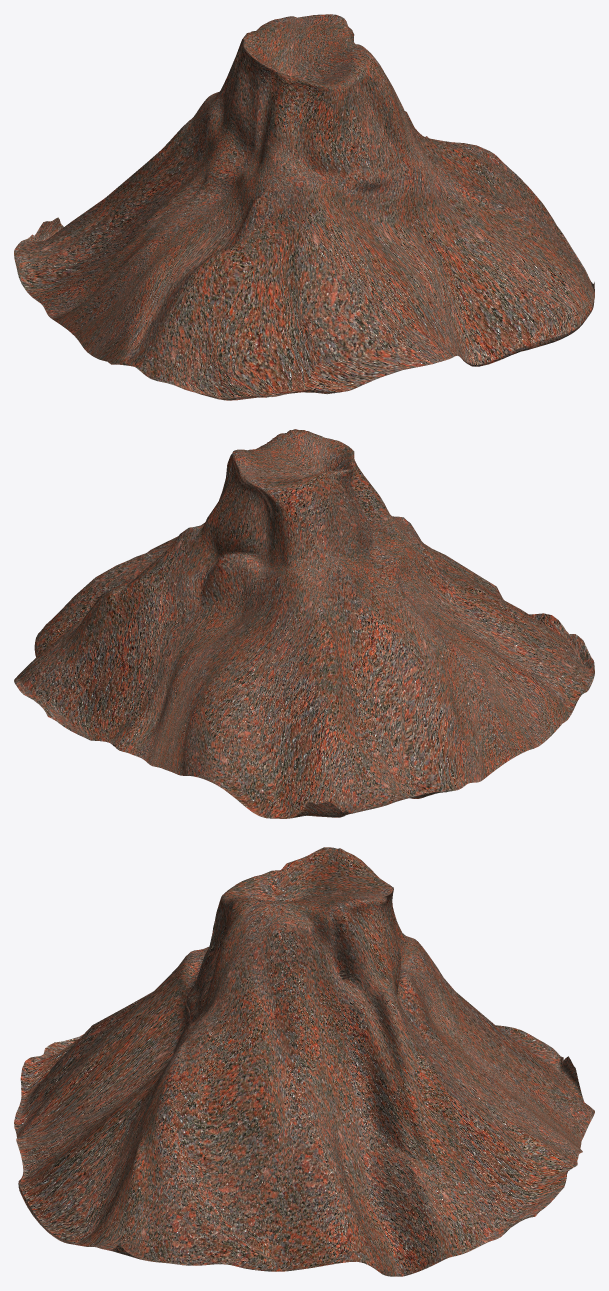
File: kazan.fbx
The picture shows the model from 3 angles, top to bottom: view 1: azimuth 30°, elevation 25°; view 2: azimuth 150°, elevation 25°; view 3: azimuth 270°, elevation 25°; orthographic projection. The views are drawn at different scales.
Visible parts, largest first — view 1: Plane001; view 2: Plane001; view 3: Plane001.
Part boxes in pixels (box(x1,y1,x2,y2)): Plane001: box(14, 14, 594, 400); Plane001: box(14, 429, 594, 818); Plane001: box(14, 847, 594, 1276).
Bounding box in the file's own units: 473 × 246 × 448.
